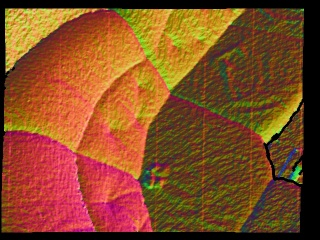station: (277, 147, 305, 187)
